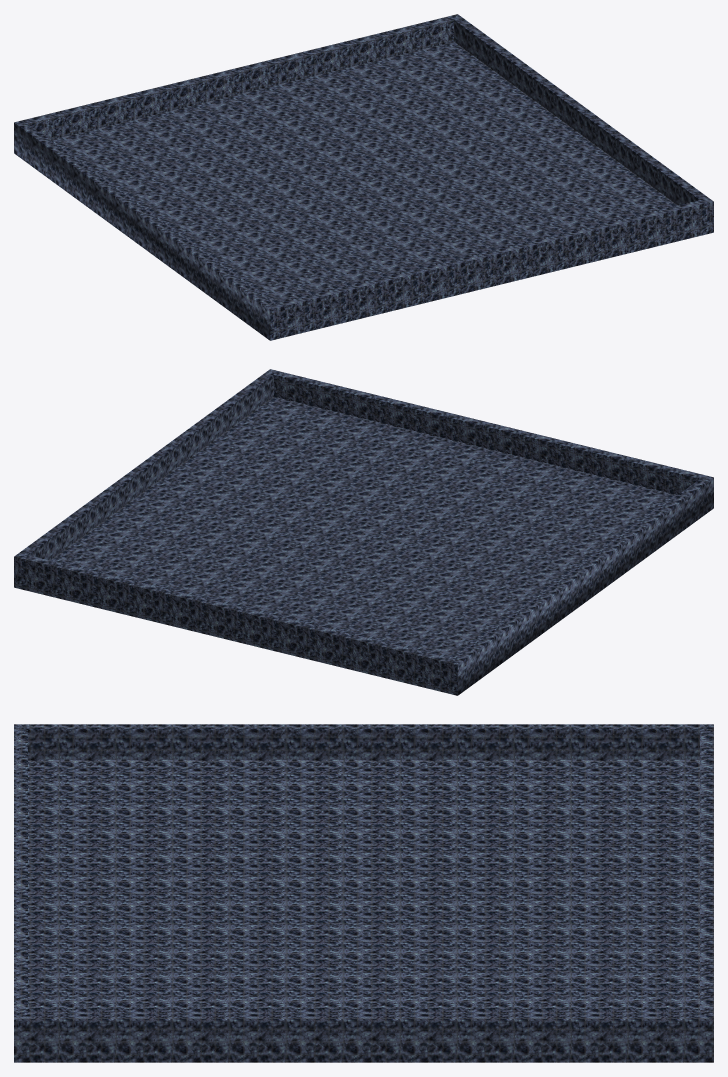
The model's file is baller_base.gltf.
3 renders of one model, top to bottom at view 1: azimuth 30°, elevation 25°; view 2: azimuth 150°, elevation 25°; view 3: azimuth 270°, elevation 25°, orthographic. The views are drawn at different scales.
Parts seen in each view (by area): view 1: baller_base; view 2: baller_base; view 3: baller_base.
Part boxes in pixels (x1,y1,x2,y2): baller_base: (14, 14, 713, 340); baller_base: (14, 369, 713, 695); baller_base: (14, 724, 713, 1062).
Bounding box in the file's own units: 30 × 2 × 30.
Materials: 1 (1 with a texture image).
